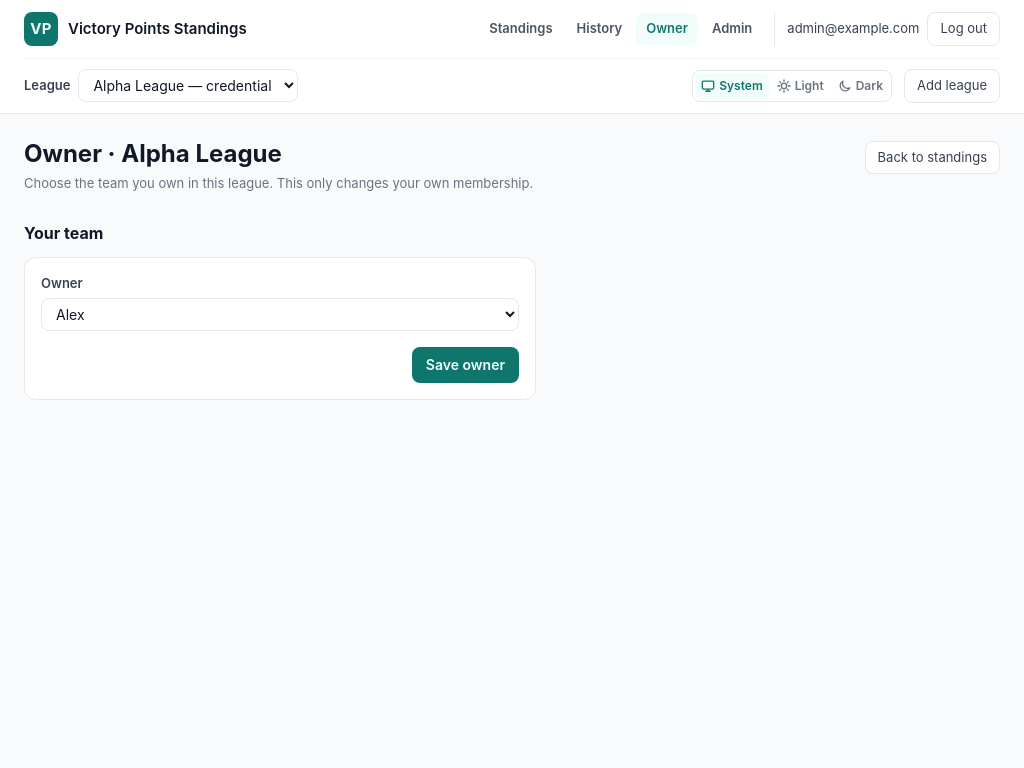
Test: App routing › keeps the owner route when a league is switched and opens the add-league dialog
The width and height of the screenshot is (1024, 768).
Expected: the heading "Owner · Alpha League" is shown, [24,138,282,168]
Select "Beta League — no credentials" in the dropdown labelled "League" at (188, 86), box [78,69,298,102]
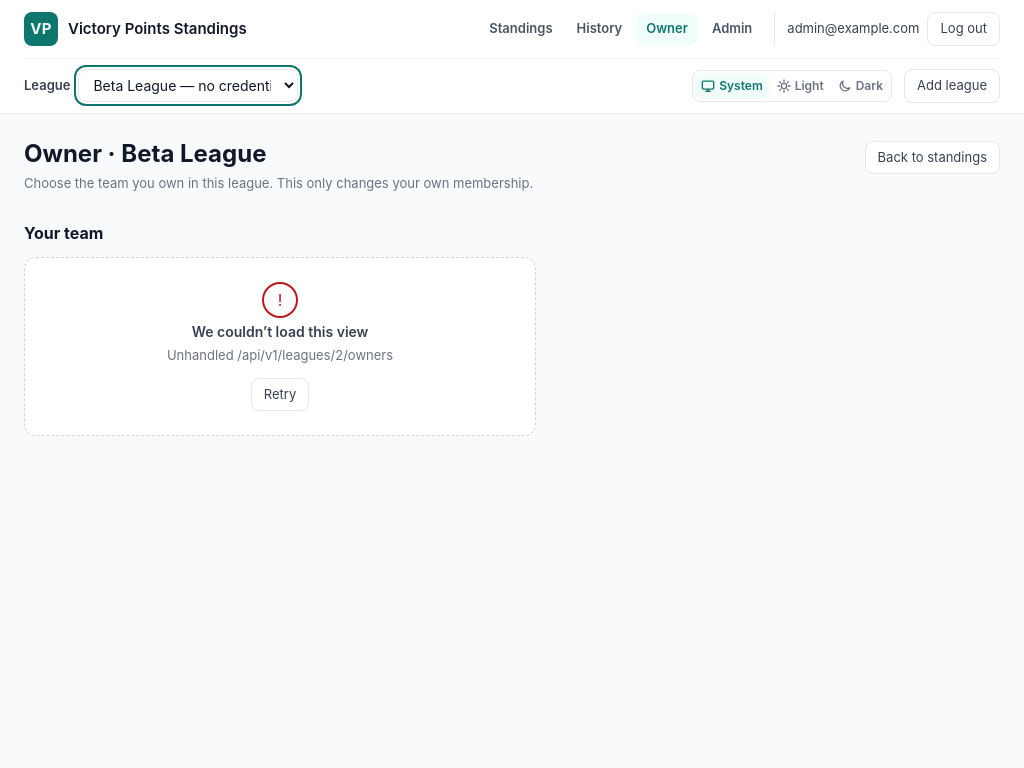
Expected: the heading "Owner · Beta League" is shown, [24,138,266,168]
Click the button "Add league" at (952, 86), box [904,69,1000,102]
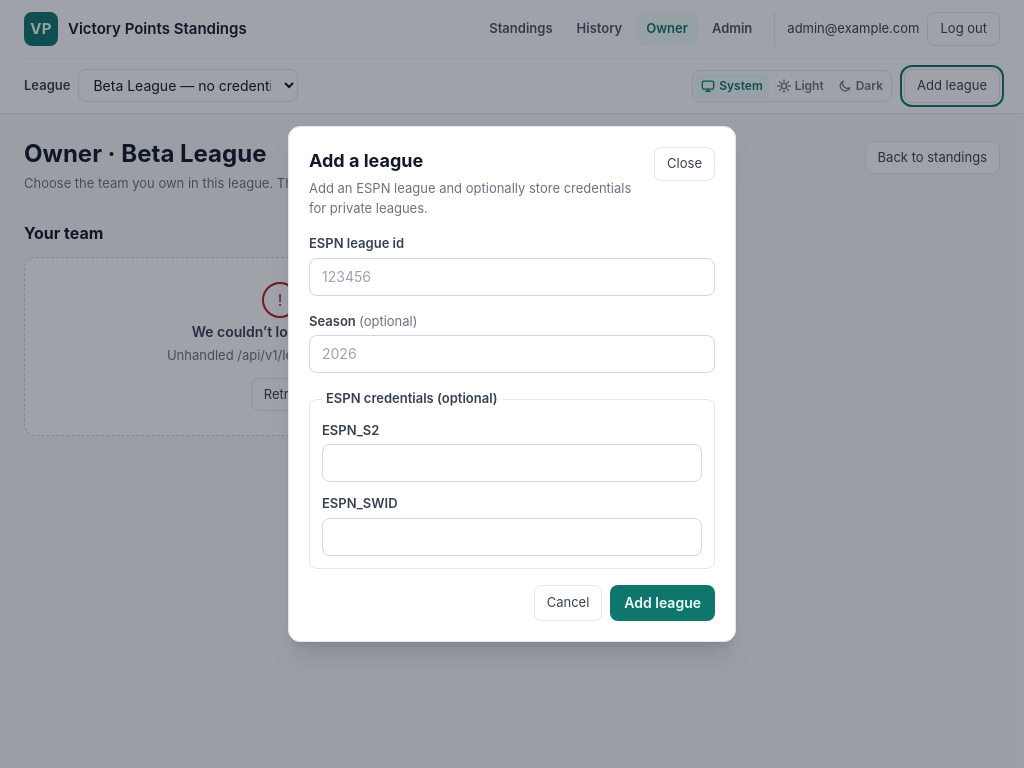
Expected: the dialog "Add a league" is shown, [288,126,736,642]
Click the button with aria-label "Close add-league dialog" at (685, 164), box [654,147,715,181]
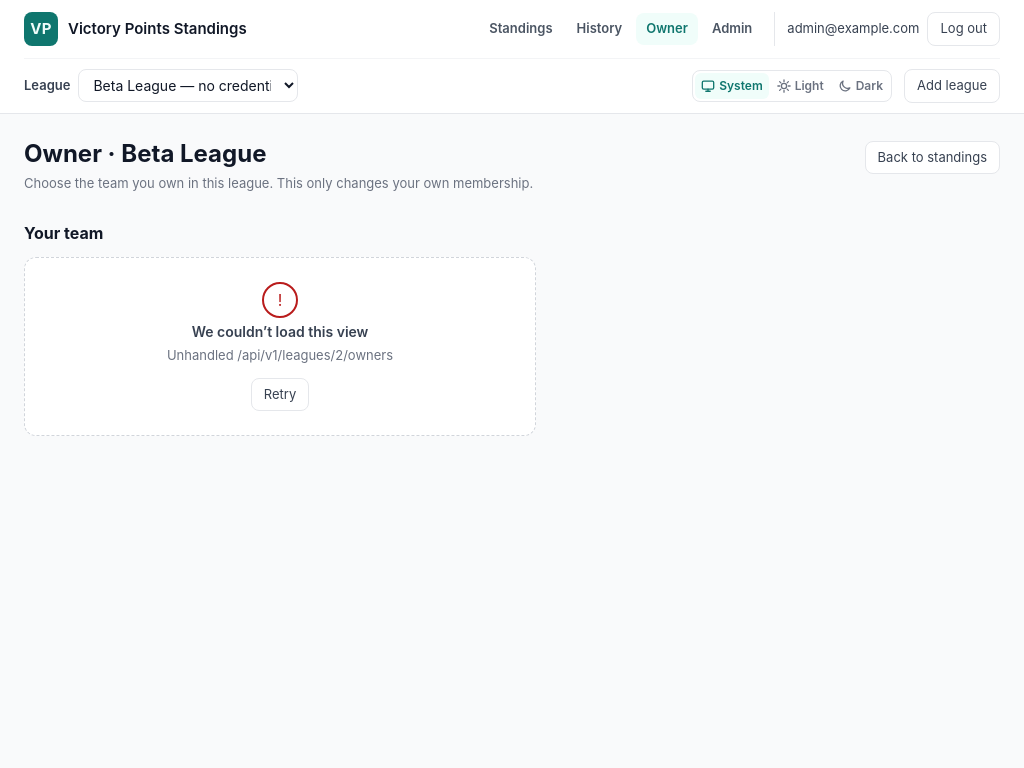
Expected: the heading "Add a league" is gone
